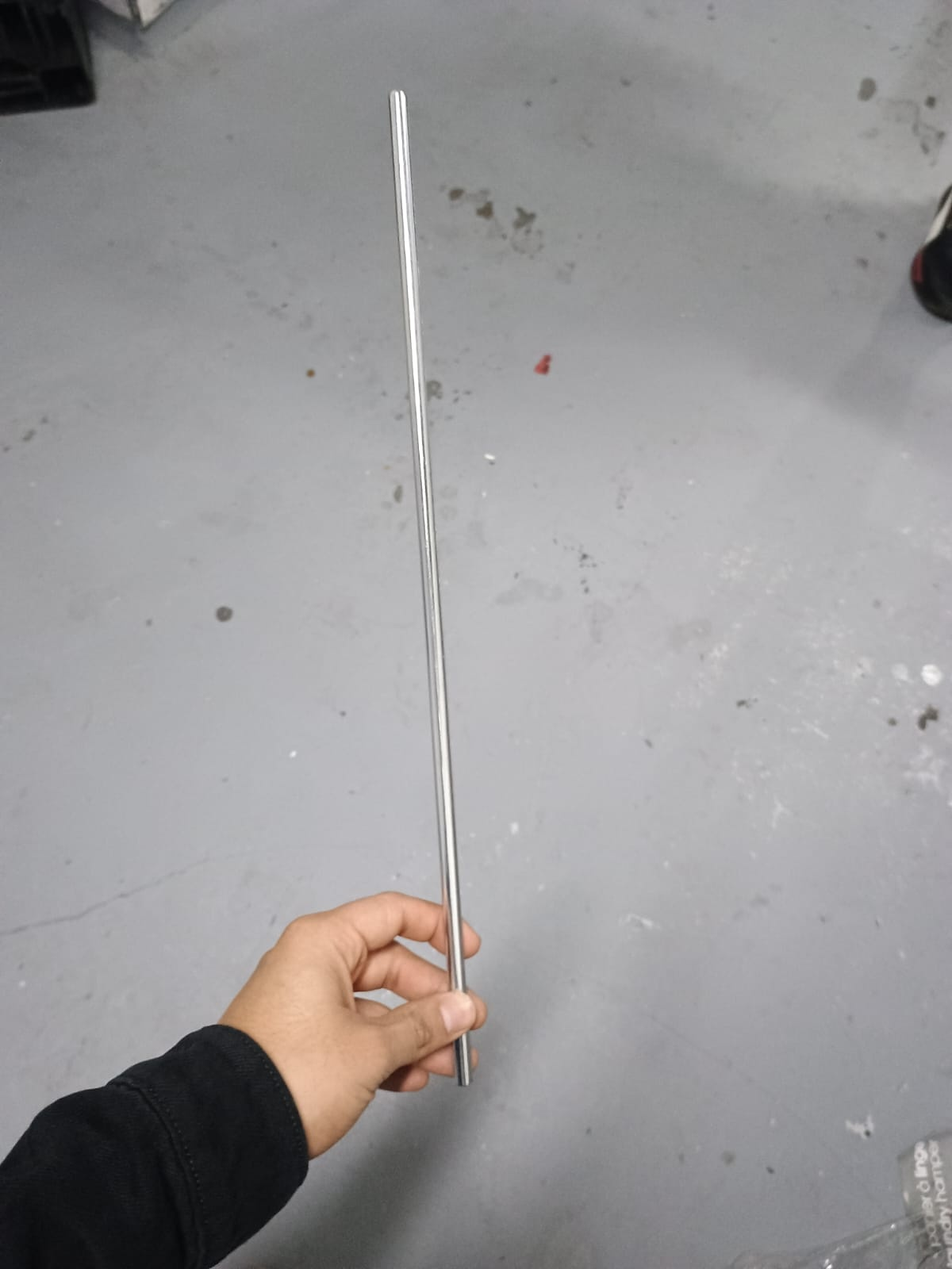Ordinario: (382, 88, 478, 1088)
